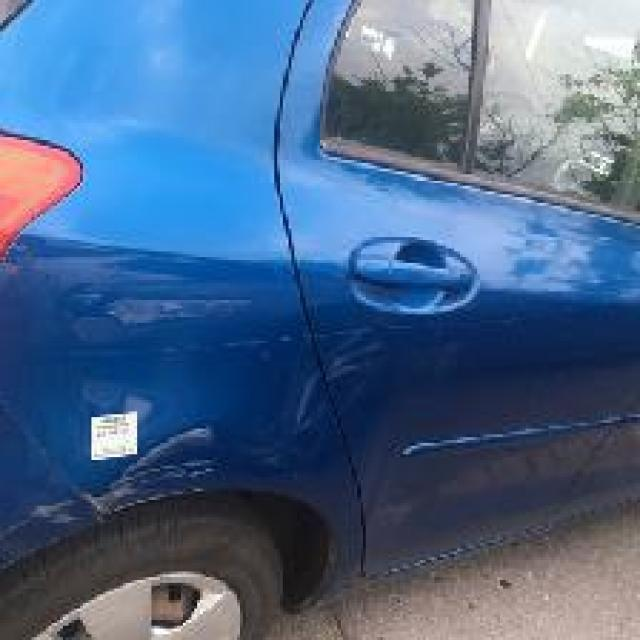damaged: (0, 426, 237, 548)
